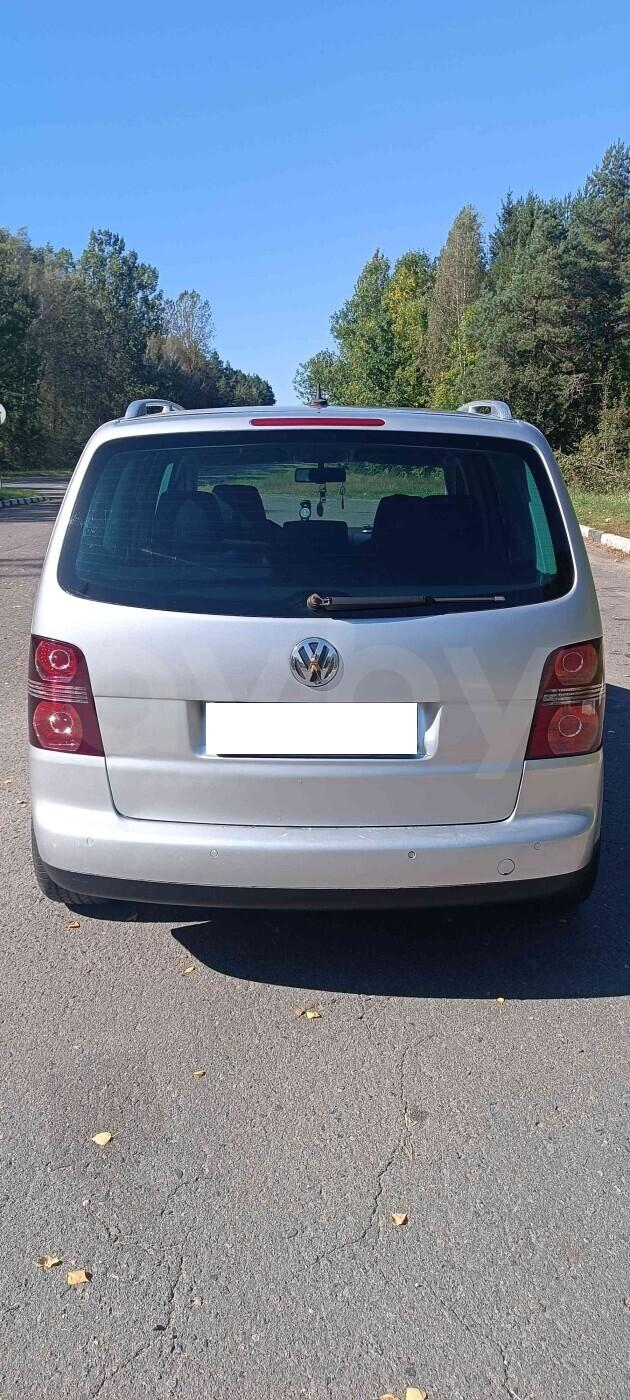Touran_2003-2006: (26, 404, 608, 914)
